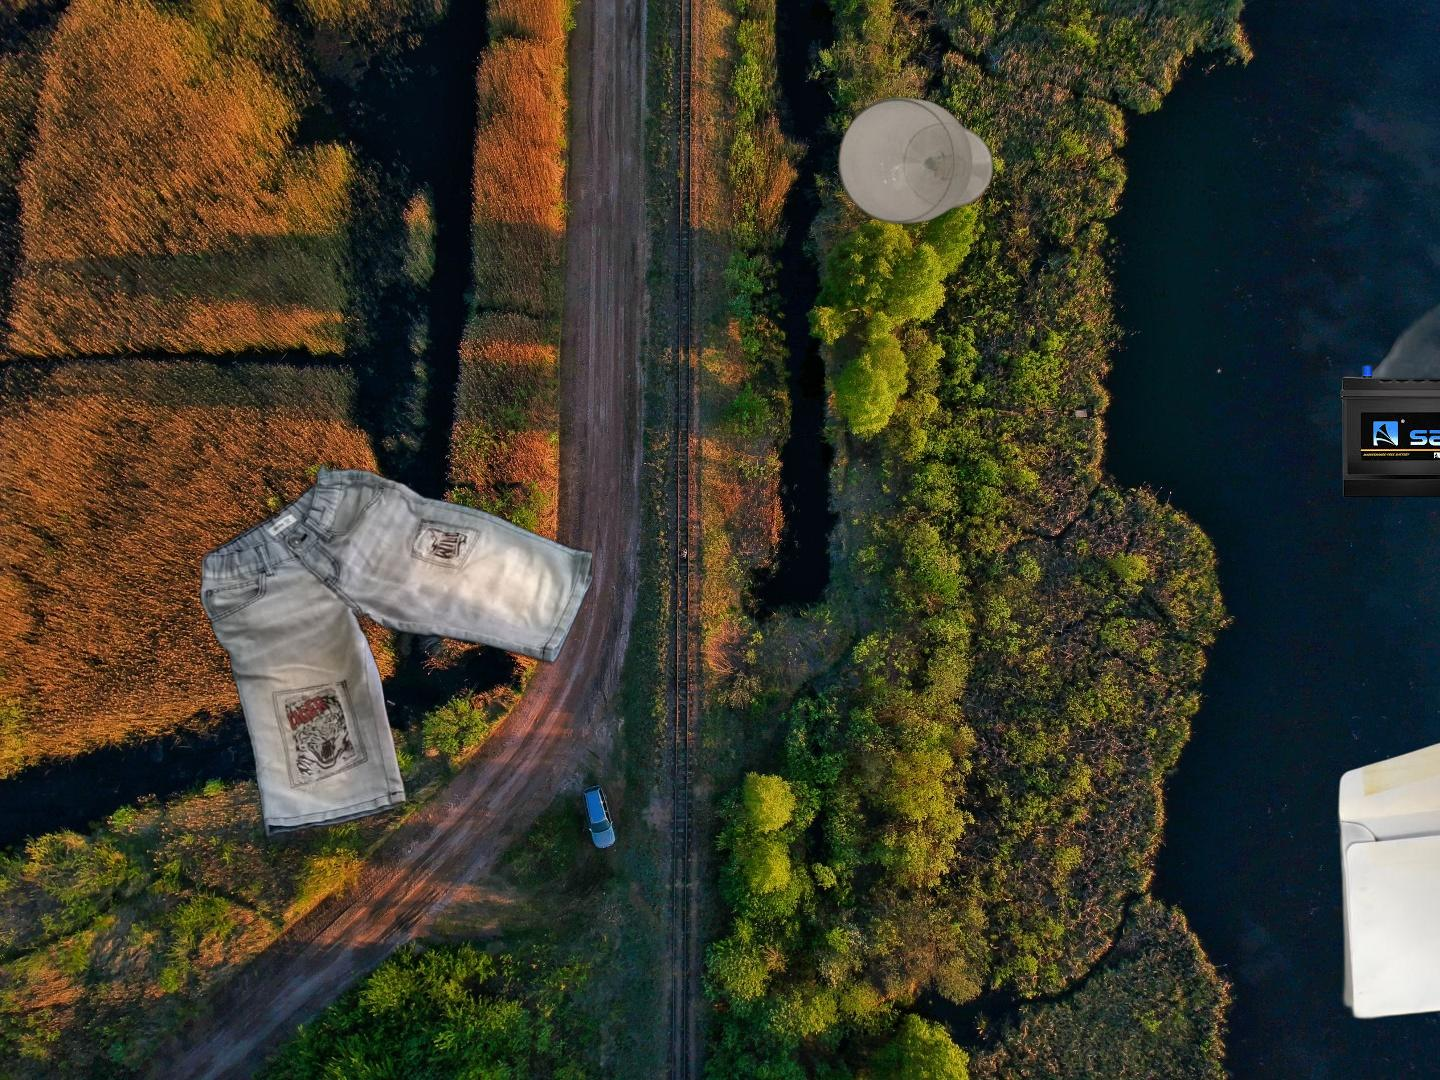battery: (1337, 362, 1440, 500)
clothes: (192, 457, 592, 1018)
glass: (833, 94, 999, 227)
paper: (1330, 705, 1440, 1024)
plastic-bag: (1359, 260, 1440, 445)
